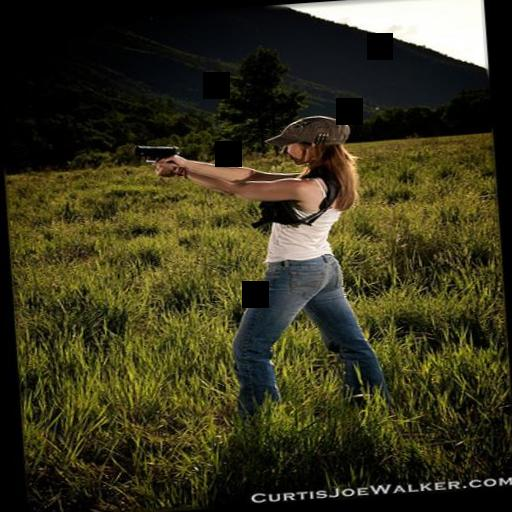Handgun: (135, 138, 182, 176)
